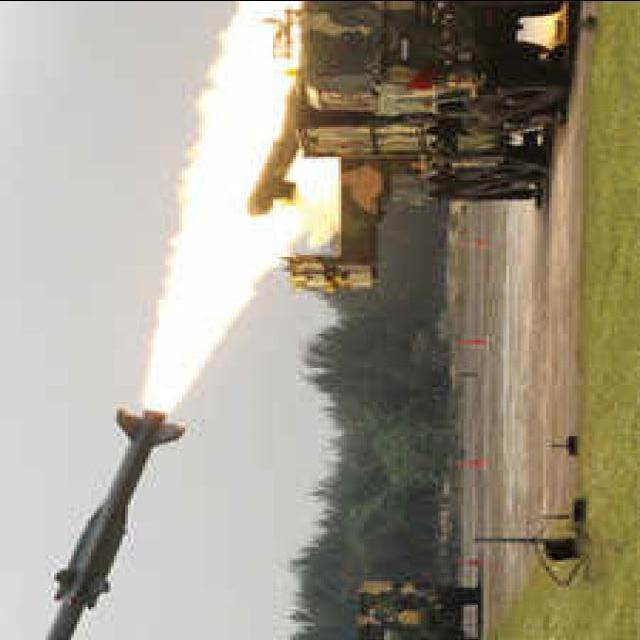missile: (11, 394, 196, 640)
